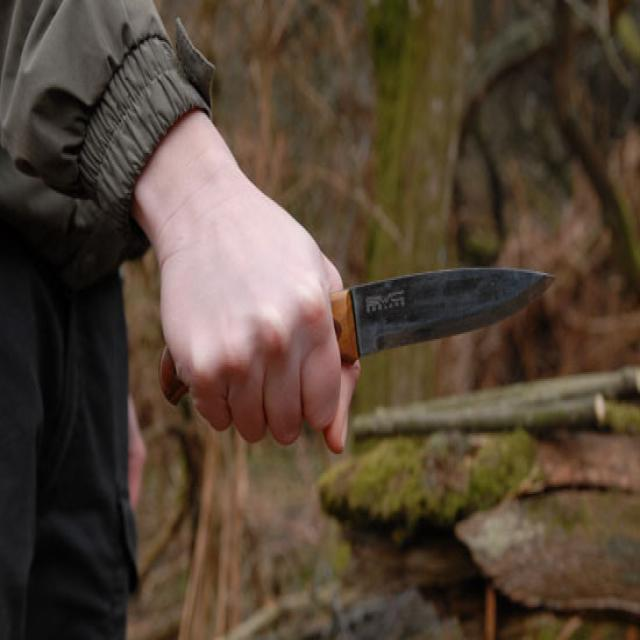knife: (152, 258, 562, 418)
